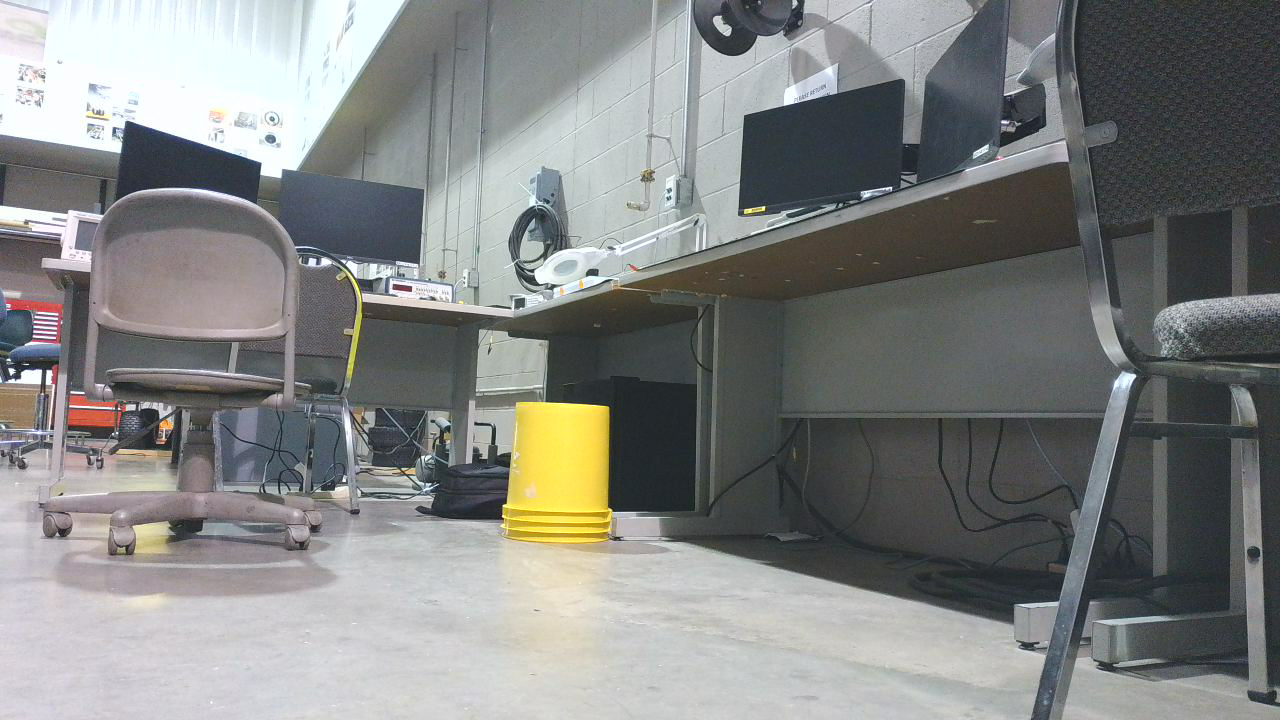yellow_bucket: (505, 405, 619, 550)
